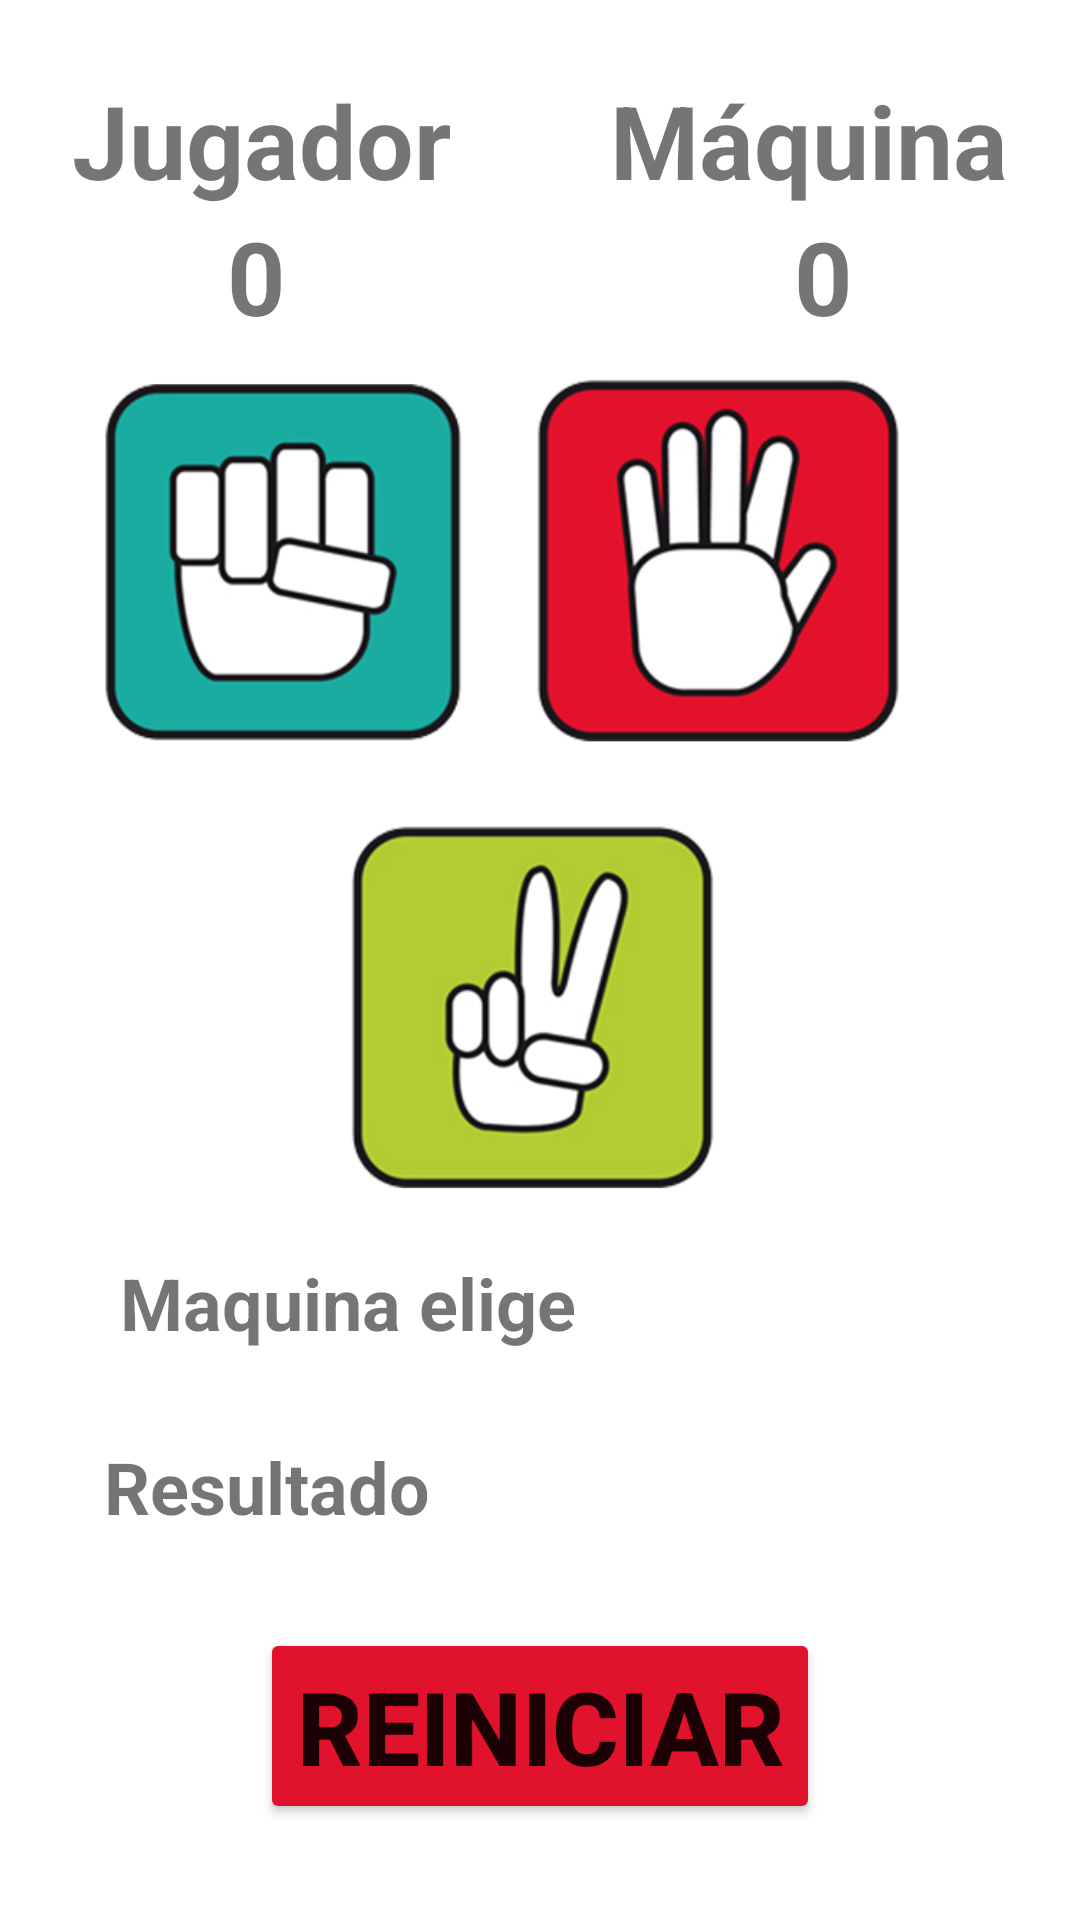

Screen size 1080 × 1920. Icon name, then its center in pixels as [x,y]:
piedra: [283,562]
